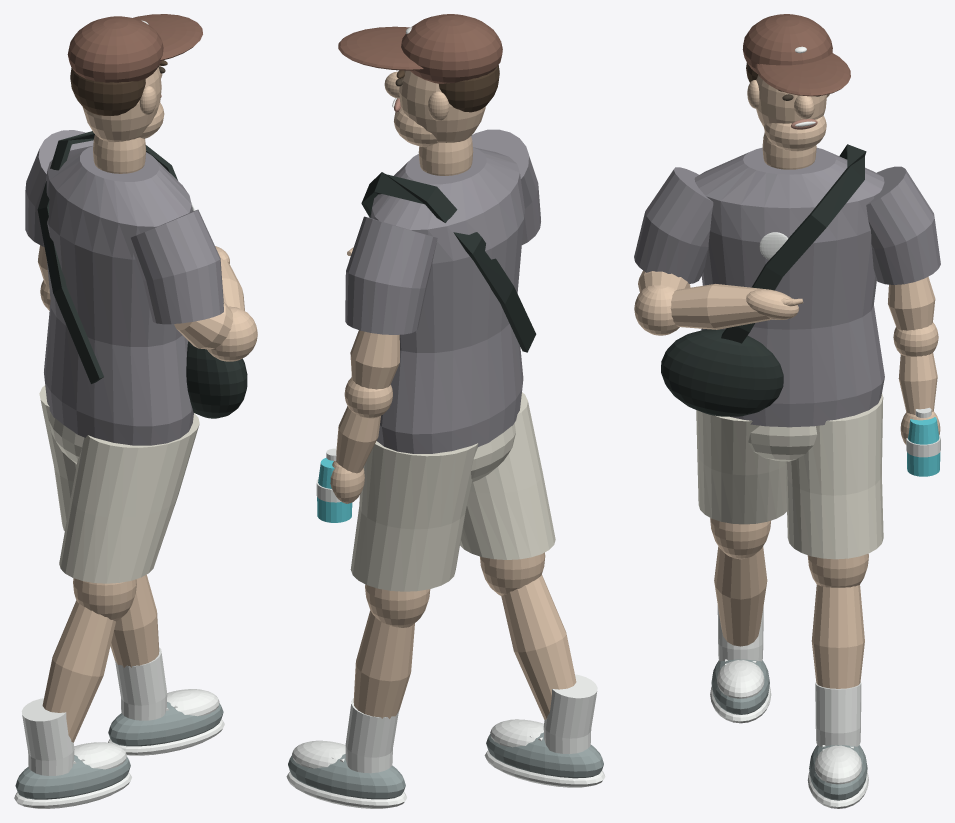
File: person.glb
3 views of the same model, side by side, from view 1: azimuth 30°, elevation 25°; view 2: azimuth 150°, elevation 25°; view 3: azimuth 270°, elevation 25° (orthographic). The views are drawn at different scales.
Size of the model in its own units: 0.646 by 1.83 by 0.6917.
